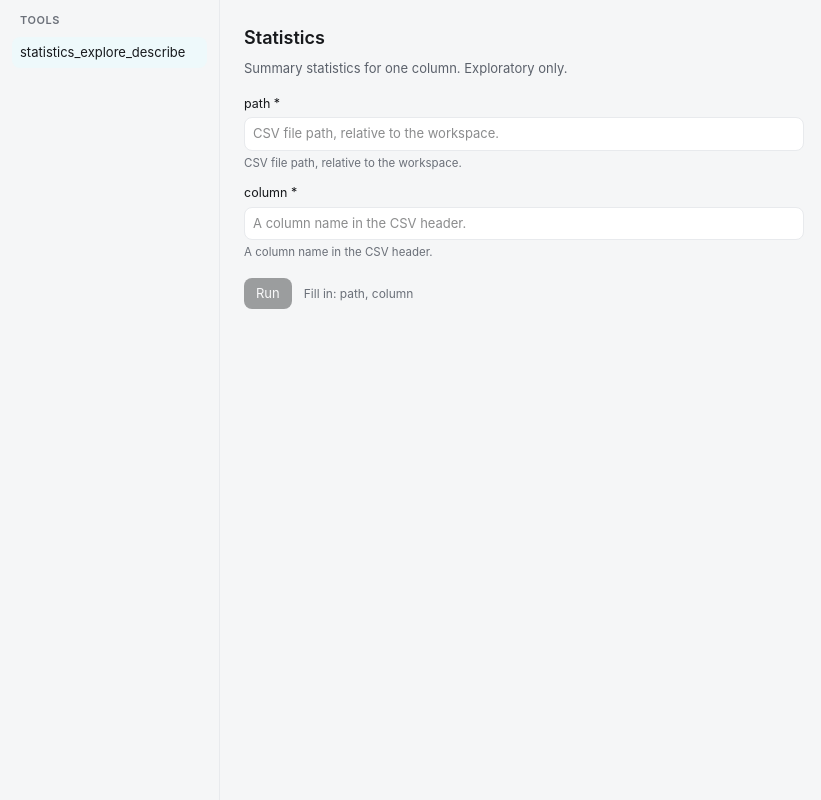
StatisticsView › shows the error when the calculation does not run
Expected: the button "statistics_explore_describe" is shown, top-left (12, 36), bottom-right (207, 68)
Type "x" into the field labelled "path * CSV file path, relative to the workspace." at (524, 134), box top-left (244, 117), bottom-right (804, 151)
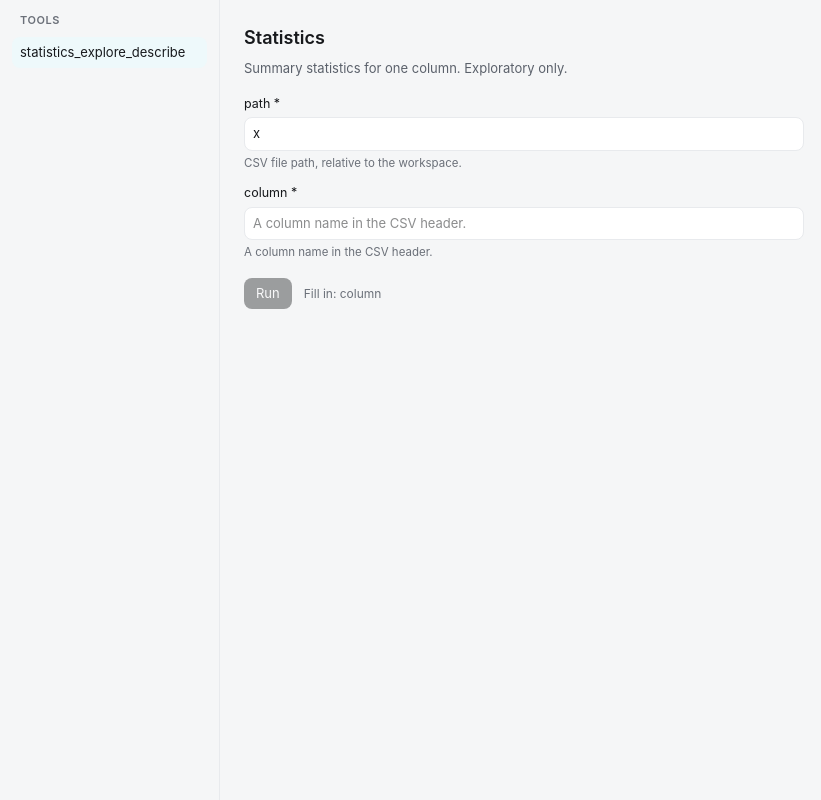
Type "x" into the field labelled "column * A column name in the CSV header." at (524, 224), box top-left (244, 207), bottom-right (804, 240)
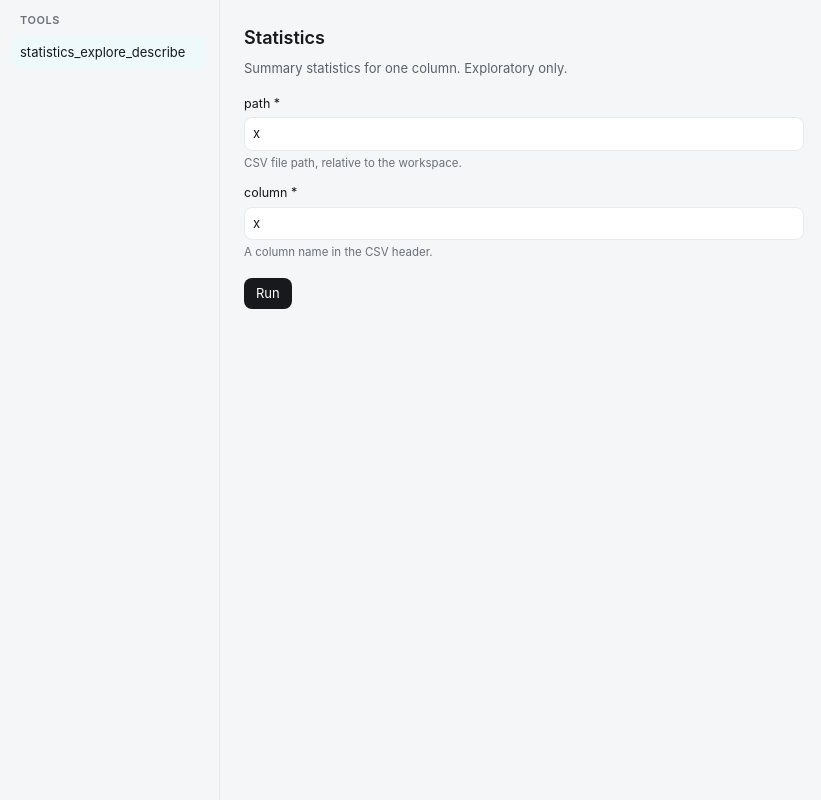
Click the button "Run" at (268, 293), box top-left (244, 278), bottom-right (292, 309)
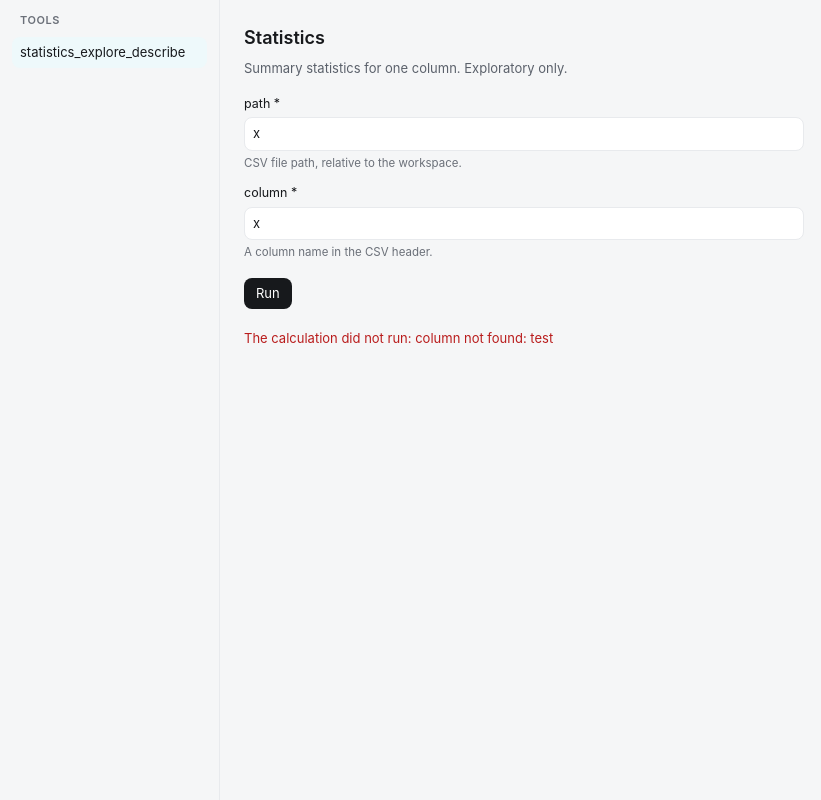
Expected: the text "The calculation did not run: column not found: test" is shown, top-left (244, 330), bottom-right (553, 346)
